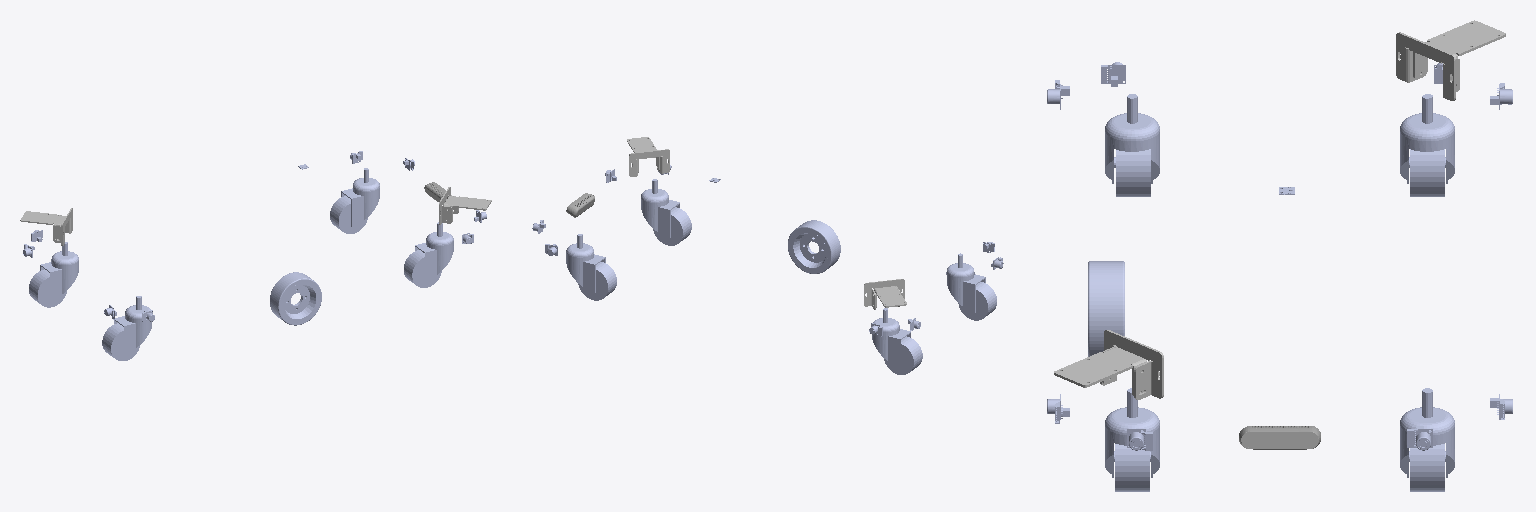
--- Render facts (derived) ---
3 views of the same robot in one strip: view 1: azimuth 30°, elevation 25°; view 2: azimuth 150°, elevation 25°; view 3: azimuth 270°, elevation 25° (orthographic).
Robot: rohm_amr_description — 28 links, 27 joints (10 continuous, 17 fixed); root link base_link; default pose: every joint at zero.
Links seen in each view (by area): view 1: wheel_right_link, caster_arm_front_left_link, caster_arm_rear_left_link, caster_arm_front_right_link, caster_arm_rear_right_link, caster_wheel_rear_right_link, caster_wheel_front_right_link, caster_wheel_rear_left_link, caster_wheel_front_left_link; view 2: wheel_right_link, caster_arm_front_right_link, caster_arm_front_left_link, caster_arm_rear_right_link, caster_arm_rear_left_link, caster_wheel_rear_left_link, caster_wheel_rear_right_link, caster_wheel_front_left_link, caster_wheel_front_right_link, lidar_front_right_roll_link, lidar_rear_left_roll_link; view 3: wheel_right_link, caster_arm_rear_left_link, caster_arm_rear_right_link, caster_arm_front_left_link, caster_arm_front_right_link, lidar_front_right_pitch_link, lidar_rear_left_roll_link, lidar_front_right_roll_link, lidar_rear_left_pitch_link, depth_cam_mount_point_link, caster_wheel_rear_right_link, caster_wheel_rear_left_link (+3 smaller).
Boxes of the visible links, left/top/right/bottom form: wheel_right_link: left=270, top=272, right=321, bottom=325; caster_arm_front_left_link: left=341, top=168, right=379, bottom=226; caster_arm_rear_left_link: left=40, top=242, right=78, bottom=299; caster_arm_front_right_link: left=415, top=222, right=453, bottom=280; caster_arm_rear_right_link: left=114, top=296, right=151, bottom=353; caster_wheel_rear_right_link: left=102, top=323, right=139, bottom=360; caster_wheel_front_right_link: left=404, top=250, right=441, bottom=287; caster_wheel_rear_left_link: left=29, top=269, right=66, bottom=307; caster_wheel_front_left_link: left=330, top=196, right=367, bottom=233; wheel_right_link: left=788, top=220, right=840, bottom=273; caster_arm_front_right_link: left=641, top=179, right=679, bottom=237; caster_arm_front_left_link: left=566, top=234, right=605, bottom=292; caster_arm_rear_right_link: left=946, top=253, right=985, bottom=312; caster_arm_rear_left_link: left=872, top=308, right=910, bottom=367; caster_wheel_rear_left_link: left=884, top=336, right=922, bottom=374; caster_wheel_rear_right_link: left=958, top=282, right=996, bottom=320; caster_wheel_front_left_link: left=578, top=262, right=616, bottom=300; caster_wheel_front_right_link: left=653, top=207, right=691, bottom=245; lidar_front_right_roll_link: left=629, top=149, right=669, bottom=176; lidar_rear_left_roll_link: left=864, top=279, right=904, bottom=309; wheel_right_link: left=1088, top=261, right=1124, bottom=356; caster_arm_rear_left_link: left=1400, top=94, right=1454, bottom=183; caster_arm_rear_right_link: left=1105, top=94, right=1159, bottom=183; caster_arm_front_left_link: left=1400, top=388, right=1454, bottom=477; caster_arm_front_right_link: left=1105, top=388, right=1159, bottom=477; lidar_front_right_pitch_link: left=1054, top=347, right=1146, bottom=395; lidar_rear_left_roll_link: left=1396, top=32, right=1459, bottom=100; lidar_front_right_roll_link: left=1100, top=330, right=1163, bottom=399; lidar_rear_left_pitch_link: left=1413, top=20, right=1505, bottom=78; depth_cam_mount_point_link: left=1239, top=426, right=1320, bottom=449; caster_wheel_rear_right_link: left=1116, top=149, right=1150, bottom=196; caster_wheel_rear_left_link: left=1410, top=149, right=1444, bottom=196.
Size in the robot's own frame: 0.9635 by 0.505 by 0.2632 metres.
Meshes: 28 distinct files referenced, 23 mesh visuals loaded (23 binary STL); not drawn: 4 (reference not matched to a file when rendering), 1 (file found but could not be loaded).

robot.urdf — rohm_amr_description:
<?xml version="1.0" encoding="utf-8"?>
<!-- This URDF was automatically created by SolidWorks to URDF Exporter! Originally created by Stephen Brawner ([email redacted]) 
     Commit Version: 1.6.0-4-g7f85cfe  Build Version: 1.6.7995.38578
     For more information, please see http://wiki.ros.org/sw_urdf_exporter -->
<robot
  name="rohm_amr_description">
  <link
    name="base_link">
    <inertial>
      <origin
        xyz="-0.073483 -0.0043519 0.24859"
        rpy="0 0 0" />
      <mass
        value="28.984" />
      <inertia
        ixx="0.30334"
        ixy="9.1593E-06"
        ixz="0.00086172"
        iyy="0.32997"
        iyz="-6.0857E-05"
        izz="0.404" />
    </inertial>
    <visual>
      <origin
        xyz="0 0 0"
        rpy="0 0 0" />
      <geometry>
        <mesh
          filename="package://rohm_amr_description/meshes/base_link.STL" />
      </geometry>
      <material
        name="">
        <color
          rgba="0.79216 0.81961 0.93333 1" />
      </material>
    </visual>
    <collision>
      <origin
        xyz="0 0 0"
        rpy="0 0 0" />
      <geometry>
        <mesh
          filename="package://rohm_amr_description/meshes/base_link.STL" />
      </geometry>
    </collision>
  </link>
  <link
    name="wheel_right_link">
    <inertial>
      <origin
        xyz="-5.1461E-18 0 -2.7756E-17"
        rpy="0 0 0" />
      <mass
        value="0.23496" />
      <inertia
        ixx="0.00026447"
        ixy="1.9667E-21"
        ixz="-1.0084E-20"
        iyy="0.00026447"
        iyz="-1.1375E-22"
        izz="0.00047658" />
    </inertial>
    <visual>
      <origin
        xyz="0 0 0"
        rpy="0 0 0" />
      <geometry>
        <mesh
          filename="package://rohm_amr_description/meshes/wheel_right_link.STL" />
      </geometry>
      <material
        name="">
        <color
          rgba="0.79216 0.81961 0.93333 1" />
      </material>
    </visual>
    <collision>
      <origin
        xyz="0 0 0"
        rpy="0 0 0" />
      <geometry>
        <mesh
          filename="package://rohm_amr_description/meshes/wheel_right_link.STL" />
      </geometry>
    </collision>
  </link>
  <joint
    name="wheel_right_joint"
    type="continuous">
    <origin
      xyz="0 -0.188 0.055"
      rpy="1.5708 0 0" />
    <parent
      link="base_link" />
    <child
      link="wheel_right_link" />
    <axis
      xyz="0 0 -1" />
    <limit
      effort="20"
      velocity="10.5" />
  </joint>
  <link
    name="wheel_left_link">
    <inertial>
      <origin
        xyz="-4.6862E-18 0 -2.7756E-17"
        rpy="0 0 0" />
      <mass
        value="0.23496" />
      <inertia
        ixx="0.00026447"
        ixy="2.309E-21"
        ixz="-1.0084E-20"
        iyy="0.00026447"
        iyz="-5.7751E-23"
        izz="0.00047658" />
    </inertial>
    <visual>
      <origin
        xyz="0 0 0"
        rpy="0 0 0" />
      <geometry>
        <mesh
          filename="package://rohm_amr_description/meshes/wheel_left_link.STL" />
      </geometry>
      <material
        name="">
        <color
          rgba="0.79216 0.81961 0.93333 1" />
      </material>
    </visual>
    <collision>
      <origin
        xyz="0 0 0"
        rpy="0 0 0" />
      <geometry>
        <mesh
          filename="package://rohm_amr_description/meshes/wheel_left_link.STL" />
      </geometry>
    </collision>
  </link>
  <joint
    name="wheel_left_joint"
    type="continuous">
    <origin
      xyz="0 0.188 0.055"
      rpy="1.5708 0 0" />
    <parent
      link="base_link" />
    <child
      link="wheel_left_link" />
    <axis
      xyz="0 0 -1" />
    <limit
      effort="20"
      velocity="10.5" />
  </joint>
  <link
    name="caster_arm_front_right_link">
    <inertial>
      <origin
        xyz="-0.0067542 2.146E-09 -0.02431"
        rpy="0 0 0" />
      <mass
        value="0.10224" />
      <inertia
        ixx="8.0517E-05"
        ixy="3.1139E-12"
        ixz="-2.0766E-05"
        iyy="8.4409E-05"
        iyz="-3.5715E-12"
        izz="6.6718E-05" />
    </inertial>
    <visual>
      <origin
        xyz="0 0 0"
        rpy="0 0 0" />
      <geometry>
        <mesh
          filename="package://rohm_amr_description/meshes/caster_arm_front_right_link.STL" />
      </geometry>
      <material
        name="">
        <color
          rgba="0.79216 0.81961 0.93333 1" />
      </material>
    </visual>
    <collision>
      <origin
        xyz="0 0 0"
        rpy="0 0 0" />
      <geometry>
        <mesh
          filename="package://rohm_amr_description/meshes/caster_arm_front_right_link.STL" />
      </geometry>
    </collision>
  </link>
  <joint
    name="caster_arm_front_right_joint"
    type="continuous">
    <origin
      xyz="0.3775 -0.16 0.107"
      rpy="0 0 0" />
    <parent
      link="base_link" />
    <child
      link="caster_arm_front_right_link" />
    <axis
      xyz="0 0 1" />
  </joint>
  <link
    name="caster_wheel_front_right_link">
    <inertial>
      <origin
        xyz="-5.55111512312578E-17 1.66533453693773E-16 0"
        rpy="0 0 0" />
      <mass
        value="0.163581158676094" />
      <inertia
        ixx="7.86654976191722E-05"
        ixy="1.62147635876547E-36"
        ixz="-2.92725644003597E-37"
        iyy="7.86654976191722E-05"
        iyz="5.87747175411144E-37"
        izz="0.000117962463050298" />
    </inertial>
    <visual>
      <origin
        xyz="0 0 0"
        rpy="0 0 0" />
      <geometry>
        <mesh
          filename="package://rohm_amr_description/meshes/caster_wheel_front_right_link.STL" />
      </geometry>
      <material
        name="">
        <color
          rgba="0.792156862745098 0.819607843137255 0.933333333333333 1" />
      </material>
    </visual>
    <collision>
      <origin
        xyz="0 0 0"
        rpy="0 0 0" />
      <geometry>
        <mesh
          filename="package://rohm_amr_description/meshes/caster_wheel_front_right_link.STL" />
      </geometry>
    </collision>
  </link>
  <joint
    name="caster_wheel_front_right_joint"
    type="continuous">
    <origin
      xyz="-0.043 0 -0.0695"
      rpy="1.5708 0 0" />
    <parent
      link="caster_arm_front_right_link" />
    <child
      link="caster_wheel_front_right_link" />
    <axis
      xyz="0 0 -1" />
  </joint>
  <link
    name="caster_arm_front_left_link">
    <inertial>
      <origin
        xyz="-0.00675421782324331 2.14599993331177E-09 -0.0243102631444927"
        rpy="0 0 0" />
      <mass
        value="0.102241293550996" />
      <inertia
        ixx="8.05168632706418E-05"
        ixy="3.11393169037364E-12"
        ixz="-2.07659739353893E-05"
        iyy="8.44086372703286E-05"
        iyz="-3.5715355661517E-12"
        izz="6.67184713176472E-05" />
    </inertial>
    <visual>
      <origin
        xyz="0 0 0"
        rpy="0 0 0" />
      <geometry>
        <mesh
          filename="package://rohm_amr_description/meshes/caster_arm_front_left_link.STL" />
      </geometry>
      <material
        name="">
        <color
          rgba="0.792156862745098 0.819607843137255 0.933333333333333 1" />
      </material>
    </visual>
    <collision>
      <origin
        xyz="0 0 0"
        rpy="0 0 0" />
      <geometry>
        <mesh
          filename="package://rohm_amr_description/meshes/caster_arm_front_left_link.STL" />
      </geometry>
    </collision>
  </link>
  <joint
    name="caster_arm_front_left_joint"
    type="continuous">
    <origin
      xyz="0.3775 0.16 0.107"
      rpy="0 0 0" />
    <parent
      link="base_link" />
    <child
      link="caster_arm_front_left_link" />
    <axis
      xyz="0 0 1" />
  </joint>
  <link
    name="caster_wheel_front_left_link">
    <inertial>
      <origin
        xyz="1.77635683940025E-15 1.73472347597681E-16 0"
        rpy="0 0 0" />
      <mass
        value="0.163581158676094" />
      <inertia
        ixx="7.86654976191722E-05"
        ixy="5.90881358212249E-40"
        ixz="-2.92725644003597E-37"
        iyy="7.86654976191722E-05"
        iyz="2.3706706348981E-37"
        izz="0.000117962463050298" />
    </inertial>
    <visual>
      <origin
        xyz="0 0 0"
        rpy="0 0 0" />
      <geometry>
        <mesh
          filename="package://rohm_amr_description/meshes/caster_wheel_front_left_link.STL" />
      </geometry>
      <material
        name="">
        <color
          rgba="0.792156862745098 0.819607843137255 0.933333333333333 1" />
      </material>
    </visual>
    <collision>
      <origin
        xyz="0 0 0"
        rpy="0 0 0" />
      <geometry>
        <mesh
          filename="package://rohm_amr_description/meshes/caster_wheel_front_left_link.STL" />
      </geometry>
    </collision>
  </link>
  <joint
    name="caster_wheel_front_left_joint"
    type="continuous">
    <origin
      xyz="-0.043 0 -0.0695"
      rpy="1.5708 0 0" />
    <parent
      link="caster_arm_front_left_link" />
    <child
      link="caster_wheel_front_left_link" />
    <axis
      xyz="0 0 -1" />
  </joint>
  <link
    name="caster_arm_rear_right_link">
    <inertial>
      <origin
        xyz="-0.00675421782323943 2.1460000165785E-09 -0.0243102631444928"
        rpy="0 0 0" />
      <mass
        value="0.102241293550996" />
      <inertia
        ixx="8.0516863270642E-05"
        ixy="3.11393170052989E-12"
        ixz="-2.07659739353893E-05"
        iyy="8.44086372703287E-05"
        iyz="-3.57153563380424E-12"
        izz="6.67184713176472E-05" />
    </inertial>
    <visual>
      <origin
        xyz="0 0 0"
        rpy="0 0 0" />
      <geometry>
        <mesh
          filename="package://rohm_amr_description/meshes/caster_arm_rear_right_link.STL" />
      </geometry>
      <material
        name="">
        <color
          rgba="0.792156862745098 0.819607843137255 0.933333333333333 1" />
      </material>
    </visual>
    <collision>
      <origin
        xyz="0 0 0"
        rpy="0 0 0" />
      <geometry>
        <mesh
          filename="package://rohm_amr_description/meshes/caster_arm_rear_right_link.STL" />
      </geometry>
    </collision>
  </link>
  <joint
    name="caster_arm_rear_right_joint"
    type="continuous">
    <origin
      xyz="-0.3775 -0.16 0.107"
      rpy="0 0 0" />
    <parent
      link="base_link" />
    <child
      link="caster_arm_rear_right_link" />
    <axis
      xyz="0 0 1" />
  </joint>
  <link
    name="caster_wheel_rear_right_link">
    <inertial>
      <origin
        xyz="-5.55111512312578E-17 -6.93889390390723E-18 0"
        rpy="0 0 0" />
      <mass
        value="0.163581158676094" />
      <inertia
        ixx="7.86654976191722E-05"
        ixy="-1.62029459604904E-36"
        ixz="-2.92725644003597E-37"
        iyy="7.86654976191722E-05"
        iyz="-5.87747175411144E-37"
        izz="0.000117962463050298" />
    </inertial>
    <visual>
      <origin
        xyz="0 0 0"
        rpy="0 0 0" />
      <geometry>
        <mesh
          filename="package://rohm_amr_description/meshes/caster_wheel_rear_right_link.STL" />
      </geometry>
      <material
        name="">
        <color
          rgba="0.792156862745098 0.819607843137255 0.933333333333333 1" />
      </material>
    </visual>
    <collision>
      <origin
        xyz="0 0 0"
        rpy="0 0 0" />
      <geometry>
        <mesh
          filename="package://rohm_amr_description/meshes/caster_wheel_rear_right_link.STL" />
      </geometry>
    </collision>
  </link>
  <joint
    name="caster_wheel_rear_right_joint"
    type="continuous">
    <origin
      xyz="-0.043 0.001 -0.0695"
      rpy="1.5708 0 0" />
    <parent
      link="caster_arm_rear_right_link" />
    <child
      link="caster_wheel_rear_right_link" />
    <axis
      xyz="0 0 -1" />
  </joint>
  <link
    name="caster_arm_rear_left_link">
    <inertial>
      <origin
        xyz="-0.00675421782325275 2.14600004433407E-09 -0.0243102631444927"
        rpy="0 0 0" />
      <mass
        value="0.102241293550996" />
      <inertia
        ixx="8.05168632706417E-05"
        ixy="3.11393167007536E-12"
        ixz="-2.07659739353893E-05"
        iyy="8.44086372703285E-05"
        iyz="-3.57153547612517E-12"
        izz="6.67184713176471E-05" />
    </inertial>
    <visual>
      <origin
        xyz="0 0 0"
        rpy="0 0 0" />
      <geometry>
        <mesh
          filename="package://rohm_amr_description/meshes/caster_arm_rear_left_link.STL" />
      </geometry>
      <material
        name="">
        <color
          rgba="0.792156862745098 0.819607843137255 0.933333333333333 1" />
      </material>
    </visual>
    <collision>
      <origin
        xyz="0 0 0"
        rpy="0 0 0" />
      <geometry>
        <mesh
          filename="package://rohm_amr_description/meshes/caster_arm_rear_left_link.STL" />
      </geometry>
    </collision>
  </link>
  <joint
    name="caster_arm_rear_left_joint"
    type="continuous">
    <origin
      xyz="-0.3775 0.16 0.107"
      rpy="0 0 0" />
    <parent
      link="base_link" />
    <child
      link="caster_arm_rear_left_link" />
    <axis
      xyz="0 0 1" />
  </joint>
  <link
    name="caster_wheel_rear_left_link">
    <inertial>
      <origin
        xyz="-3.44169137633799E-15 1.16989751219876E-14 0"
        rpy="0 0 0" />
      <mass
        value="0.163581158676094" />
      <inertia
        ixx="7.86654976191722E-05"
        ixy="5.90881358212249E-40"
        ixz="-2.92725644003597E-37"
        iyy="7.86654976191722E-05"
        iyz="2.3706706348981E-37"
        izz="0.000117962463050298" />
    </inertial>
    <visual>
      <origin
        xyz="0 0 0"
        rpy="0 0 0" />
      <geometry>
        <mesh
          filename="package://rohm_amr_description/meshes/caster_wheel_rear_left_link.STL" />
      </geometry>
      <material
        name="">
        <color
          rgba="0.792156862745098 0.819607843137255 0.933333333333333 1" />
      </material>
    </visual>
    <collision>
      <origin
        xyz="0 0 0"
        rpy="0 0 0" />
      <geometry>
        <mesh
          filename="package://rohm_amr_description/meshes/caster_wheel_rear_left_link.STL" />
      </geometry>
    </collision>
  </link>
  <joint
    name="caster_wheel_rear_left_joint"
    type="continuous">
    <origin
      xyz="-0.043 0 -0.0695"
      rpy="1.5708 0 0" />
    <parent
      link="caster_arm_rear_left_link" />
    <child
      link="caster_wheel_rear_left_link" />
    <axis
      xyz="0 0 -1" />
  </joint>
  <link
    name="imu_link">
    <inertial>
      <origin
        xyz="0.00372314733869097 -2.49899340665216E-08 0.000837508635019801"
        rpy="0 0 0" />
      <mass
        value="0.000502288061214731" />
      <inertia
        ixx="1.37978316417245E-08"
        ixy="1.26534574459438E-13"
        ixz="5.16668935382629E-11"
        iyy="1.30397927506381E-08"
        iyz="9.96944209839807E-15"
        izz="2.65859794426441E-08" />
    </inertial>
    <visual>
      <origin
        xyz="0 0 0"
        rpy="0 0 0" />
      <geometry>
        <mesh
          filename="package://rohm_amr_description/meshes/imu_link.STL" />
      </geometry>
      <material
        name="">
        <color
          rgba="0.792156862745098 0.819607843137255 0.933333333333333 1" />
      </material>
    </visual>
    <collision>
      <origin
        xyz="0 0 0"
        rpy="0 0 0" />
      <geometry>
        <mesh
          filename="package://rohm_amr_description/meshes/imu_link.STL" />
      </geometry>
    </collision>
  </link>
  <joint
    name="imu_joint"
    type="fixed">
    <origin
      xyz="0.13248 0.011901 0.26051"
      rpy="0 0 -1.5708" />
    <parent
      link="base_link" />
    <child
      link="imu_link" />
    <axis
      xyz="0 0 0" />
  </joint>
  <link
    name="lidar_front_right_roll_link">
    <inertial>
      <origin
        xyz="0.00341569824852672 -3.60822483003176E-16 0.000714686858124397"
        rpy="0 0 0" />
      <mass
        value="0.105074031653967" />
      <inertia
        ixx="0.000118386129259021"
        ixy="-3.59141969635823E-19"
        ixz="4.01713979224373E-06"
        iyy="3.27891394505926E-05"
        iyz="1.55848379328042E-20"
        izz="9.74424463210962E-05" />
    </inertial>
    <visual>
      <origin
        xyz="0 0 0"
        rpy="0 0 0" />
      <geometry>
        <mesh
          filename="package://rohm_amr_description/meshes/lidar_front_right_roll_link.STL" />
      </geometry>
      <material
        name="">
        <color
          rgba="0.792156862745098 0.792156862745098 0.792156862745098 1" />
      </material>
    </visual>
    <collision>
      <origin
        xyz="0 0 0"
        rpy="0 0 0" />
      <geometry>
        <mesh
          filename="package://rohm_amr_description/meshes/lidar_front_right_roll_link.STL" />
      </geometry>
    </collision>
  </link>
  <joint
    name="lidar_front_right_roll_joint"
    type="fixed">
    <origin
      xyz="0.39109 -0.15955 0.1745"
      rpy="0 0 -0.7854" />
    <parent
      link="base_link" />
    <child
      link="lidar_front_right_roll_link" />
    <axis
      xyz="0 0 0" />
  </joint>
  <link
    name="lidar_front_right_pitch_link">
    <inertial>
      <origin
        xyz="0.0289046048095006 1.11022302462516E-16 0.00388007864506032"
        rpy="0 0 0" />
      <mass
        value="0.143282605100291" />
      <inertia
        ixx="5.45047049148797E-05"
        ixy="-3.13402190484091E-19"
        ixz="-1.91335293827813E-05"
        iyy="0.000133259895991102"
        iyz="9.73323291802234E-20"
        izz="0.000160257762612893" />
    </inertial>
    <visual>
      <origin
        xyz="0 0 0"
        rpy="0 0 0" />
      <geometry>
        <mesh
          filename="package://rohm_amr_description/meshes/lidar_front_right_pitch_link.STL" />
      </geometry>
      <material
        name="">
        <color
          rgba="0.792156862745098 0.792156862745098 0.792156862745098 1" />
      </material>
    </visual>
    <collision>
      <origin
        xyz="0 0 0"
        rpy="0 0 0" />
      <geometry>
        <mesh
          filename="package://rohm_amr_description/meshes/lidar_front_right_pitch_link.STL" />
      </geometry>
    </collision>
  </link>
  <joint
    name="lidar_front_right_pitch_joint"
    type="fixed">
    <origin
      xyz="0.013 0 0.005"
      rpy="0 0 0" />
    <parent
      link="lidar_front_right_roll_link" />
    <child
      link="lidar_front_right_pitch_link" />
    <axis
      xyz="0 0 0" />
  </joint>
  <link
    name="lidar_front_right_link">
    <inertial>
      <origin
        xyz="0.240092407845002 2.40047584587622E-09 -8.52892701927455E-06"
        rpy="0 0 0" />
      <mass
        value="399.487966204344" />
      <inertia
        ixx="174.35420763036"
        ixy="-1.85064052971029E-09"
        ixz="3.22011540266463E-06"
        iyy="90.2687564368381"
        iyz="-8.07688384801051E-09"
        izz="264.607976285177" />
    </inertial>
    <visual>
      <origin
        xyz="0 0 0"
        rpy="0 0 0" />
      <geometry>
        <mesh
          filename="package://rohm_amr_description/meshes/lidar_front_right_link.STL" />
      </geometry>
      <material
        name="">
        <color
          rgba="1 0.501960784313725 0.501960784313725 1" />
      </material>
    </visual>
    <collision>
      <origin
        xyz="0 0 0"
        rpy="0 0 0" />
      <geometry>
        <mesh
          filename="package://rohm_amr_description/meshes/lidar_front_right_link.STL" />
      </geometry>
    </collision>
  </link>
  <joint
    name="lidar_front_right_joint"
    type="fixed">
    <origin
      xyz="0.055 0 -0.02135"
      rpy="3.1416 0 0" />
    <parent
      link="lidar_front_right_pitch_link" />
    <child
      link="lidar_front_right_link" />
    <axis
      xyz="0 0 0" />
  </joint>
  <link
    name="lidar_rear_left_roll_link">
    <inertial>
      <origin
        xyz="0.00341569824853388 -1.11022302462516E-16 0.000714686858121899"
        rpy="0 0 0" />
      <mass
        value="0.105074031653967" />
      <inertia
        ixx="0.000118386129259021"
        ixy="-1.84653182501437E-19"
        ixz="4.01713979224373E-06"
        iyy="3.27891394505925E-05"
        iyz="2.00196805380229E-19"
        izz="9.74424463210963E-05" />
    </inertial>
    <visual>
      <origin
        xyz="0 0 0"
        rpy="0 0 0" />
      <geometry>
        <mesh
          filename="package://rohm_amr_description/meshes/lidar_rear_left_roll_link.STL" />
      </geometry>
      <material
        name="">
        <color
          rgba="0.792156862745098 0.792156862745098 0.792156862745098 1" />
      </material>
    </visual>
    <collision>
      <origin
        xyz="0 0 0"
        rpy="0 0 0" />
      <geometry>
        <mesh
          filename="package://rohm_amr_description/meshes/lidar_rear_left_roll_link.STL" />
      </geometry>
    </collision>
  </link>
  <joint
    name="lidar_rear_left_roll_joint"
    type="fixed">
    <origin
      xyz="-0.37409 0.15955 0.1745"
      rpy="0 0 2.3562" />
    <parent
      link="base_link" />
    <child
      link="lidar_rear_left_roll_link" />
    <axis
      xyz="0 0 0" />
  </joint>
  <link
    name="lidar_rear_left_pitch_link">
    <inertial>
      <origin
        xyz="0.0289046048095066 1.38777878078145E-16 0.00388007864505172"
        rpy="0 0 0" />
      <mass
        value="0.143282605100291" />
      <inertia
        ixx="5.45047049148801E-05"
        ixy="-4.16740210049116E-19"
        ixz="-1.91335293827814E-05"
        iyy="0.000133259895991102"
        iyz="1.56465740326953E-20"
        izz="0.000160257762612894" />
    </inertial>
    <visual>
      <origin
        xyz="0 0 0"
        rpy="0 0 0" />
      <geometry>
        <mesh
          filename="package://rohm_amr_description/meshes/lidar_rear_left_pitch_link.STL" />
      </geometry>
      <material
        name="">
        <color
          rgba="0.792156862745098 0.792156862745098 0.792156862745098 1" />
      </material>
    </visual>
    <collision>
      <origin
        xyz="0 0 0"
        rpy="0 0 0" />
      <geometry>
        <mesh
          filename="package://rohm_amr_description/meshes/lidar_rear_left_pitch_link.STL" />
      </geometry>
    </collision>
  </link>
  <joint
    name="lidar_rear_left_pitch_joint"
    type="fixed">
    <origin
      xyz="0.013 0 0.005"
      rpy="0 0 0" />
    <parent
      link="lidar_rear_left_roll_link" />
    <child
      link="lidar_rear_left_pitch_link" />
    <axis
      xyz="0 0 0" />
  </joint>
  <link
    name="lidar_rear_left_link">
    <inertial>
      <origin
        xyz="0.240092407844441 2.40045899824182E-09 -8.52892705119346E-06"
        rpy="0 0 0" />
      <mass
        value="399.487966205156" />
      <inertia
        ixx="174.35420763036"
        ixy="-1.85067605684708E-09"
        ixz="3.22011540523997E-06"
        iyy="90.2687564368381"
        iyz="-8.07682181755778E-09"
        izz="264.607976285178" />
    </inertial>
    <visual>
      <origin
        xyz="0 0 0"
        rpy="0 0 0" />
      <geometry>
        <mesh
          filename="package://rohm_amr_description/meshes/lidar_rear_left_link.STL" />
      </geometry>
      <material
        name="">
        <color
          rgba="1 0.501960784313725 0.501960784313725 1" />
      </material>
    </visual>
    <collision>
      <origin
        xyz="0 0 0"
        rpy="0 0 0" />
      <geometry>
        <mesh
          filename="package://rohm_amr_description/meshes/lidar_rear_left_link.STL" />
      </geometry>
    </collision>
  </link>
  <joint
    name="lidar_rear_left_joint"
    type="fixed">
    <origin
      xyz="0.055 0 -0.02135"
      rpy="3.1416 0 0" />
    <parent
      link="lidar_rear_left_pitch_link" />
    <child
      link="lidar_rear_left_link" />
    <axis
      xyz="0 0 0" />
  </joint>
  <link
    name="lidar_merged_link">
    <inertial>
      <origin
        xyz="0.00324062163584135 -0.000226459164535731 0.00887925143437091"
        rpy="0 0 0" />
      <mass
        value="923.219933749901" />
      <inertia
        ixx="384.015226592815"
        ixy="96.9074498454372"
        ixz="-1.43120298898605"
        iyy="565.041215401844"
        iyz="-0.0259486902638359"
        izz="942.342649416445" />
    </inertial>
    <visual>
      <origin
        xyz="0 0 0"
        rpy="0 0 0" />
      <geometry>
        <mesh
          filename="package://rohm_amr_description/meshes/lidar_merged_link.STL" />
      </geometry>
      <material
        name="">
        <color
          rgba="1 1 1 1" />
      </material>
    </visual>
    <collision>
      <origin
        xyz="0 0 0"
        rpy="0 0 0" />
      <geometry>
        <mesh
          filename="package://rohm_amr_description/meshes/lidar_merged_link.STL" />
      </geometry>
    </collision>
  </link>
  <joint
    name="lidar_merge_joint"
    type="fixed">
    <origin
      xyz="0 0 0.15815"
      rpy="0 0 0" />
    <parent
      link="base_link" />
    <child
      link="lidar_merged_link" />
    <axis
      xyz="0 0 0" />
  </joint>
  <link
    name="depth_cam_mount_point_link">
    <inertial>
      <origin
        xyz="0.00153205265950423 0.00137950775247242 0.0124766239393624"
        rpy="0 0 0" />
      <mass
        value="0.286307538979572" />
      <inertia
        ixx="0.000183723814872738"
        ixy="-1.07569994202486E-06"
        ixz="7.99476012688966E-08"
        iyy="2.75127610571264E-05"
        iyz="1.19800096606718E-08"
        izz="0.00018535136318658" />
    </inertial>
    <visual>
      <origin
        xyz="0 0 0"
        rpy="0 0 0" />
      <geometry>
        <mesh
          filename="package://rohm_amr_description/meshes/depth_cam_mount_point_link.STL" />
      </geometry>
      <material
        name="">
        <color
          rgba="0.701960784313725 0.701960784313725 0.701960784313725 1" />
      </material>
    </visual>
    <collision>
      <origin
        xyz="0 0 0"
        rpy="0 0 0" />
      <geometry>
        <mesh
          filename="package://rohm_amr_description/meshes/depth_cam_mount_point_link.STL" />
      </geometry>
    </collision>
  </link>
  <joint
    name="depth_cam_mount_point_joint"
    type="fixed">
    <origin
      xyz="0.46771 0 0.10897"
      rpy="-0.0043513 -0.24431 0.017987" />
    <parent
      link="base_link" />
    <child
      link="depth_cam_mount_point_link" />
    <axis
      xyz="0 0 0" />
  </joint>
  <link
    name="ultrasonic_front_right_link">
    <inertial>
      <origin
        xyz="-0.0101951890574369 0.00176519904874645 -0.00093909748619353"
        rpy="0 0 0" />
      <mass
        value="0.00561297834512605" />
      <inertia
        ixx="2.110210056278E-07"
        ixy="-7.93292062270086E-10"
        ixz="2.66386687973336E-23"
        iyy="1.81264873897895E-07"
        iyz="1.57650879589313E-09"
        izz="1.53595696502951E-07" />
    </inertial>
    <visual>
      <origin
        xyz="0 0 0"
        rpy="0 0 0" />
      <geometry>
        <mesh
          filename="package://rohm_amr_description/meshes/ultrasonic_front_right_link.STL" />
      </geometry>
      <material
        name="">
        <color
          rgba="0.792156862745098 0.819607843137255 0.933333333333333 1" />
      </material>
    </visual>
    <collision>
      <origin
        xyz="0 0 0"
        rpy="0 0 0" />
      <geometry>
        <mesh
          filename="package://rohm_amr_description/meshes/ultrasonic_front_right_link.STL" />
      </geometry>
    </collision>
  </link>
  <joint
    name="ultrasonic_front_right_joint"
    type="fixed">
    <origin
      xyz="0.4935 -0.15575 0.127"
      rpy="0 0 0" />
    <parent
      link="base_link" />
    <child
      link="ultrasonic_front_right_link" />
    <axis
      xyz="0 0 0" />
  </joint>
  <link
    name="ultrasonic_front_right_side_link">
    <inertial>
      <origin
        xyz="-0.0101951890574369 0.00176519904874645 -0.000939097486193474"
        rpy="0 0 0" />
      <mass
        value="0.00561297834512607" />
      <inertia
        ixx="2.110210056278E-07"
        ixy="-7.93292062270125E-10"
        ixz="2.96117471129401E-24"
        iyy="1.81264873897896E-07"
        iyz="1.57650879589317E-09"
        izz="1.53595696502952E-07" />
    </inertial>
    <visual>
      <origin
        xyz="0 0 0"
        rpy="0 0 0" />
      <geometry>
        <mesh
          filename="package://rohm_amr_description/meshes/ultrasonic_front_right_side_link.STL" />
      </geometry>
      <material
        name="">
        <color
          rgba="0.792156862745098 0.819607843137255 0.933333333333333 1" />
      </material>
    </visual>
    <collision>
      <origin
        xyz="0 0 0"
        rpy="0 0 0" />
      <geometry>
        <mesh
          filename="package://rohm_amr_description/meshes/ultrasonic_front_right_side_link.STL" />
      </geometry>
    </collision>
  </link>
  <joint
    name="ultrasonic_front_right_side_link"
    type="fixed">
    <origin
      xyz="0.3975 -0.2525 0.127"
      rpy="0 0 -1.5708" />
    <parent
      link="base_link" />
    <child
      link="ultrasonic_front_right_side_link" />
    <axis
      xyz="0 0 0" />
  </joint>
  <link
    name="ultrasonic_front_left_link">
    <inertial>
      <origin
        xyz="-0.0101951890574369 -0.00176519904874642 0.000939097486193557"
        rpy="0 0 0" />
      <mass
        value="0.00561297834512606" />
      <inertia
        ixx="2.110210056278E-07"
        ixy="7.93292062270107E-10"
        ixz="1.7991825184055E-23"
        iyy="1.81264873897895E-07"
        iyz="1.57650879589309E-09"
        izz="1.53595696502952E-07" />
    </inertial>
    <visual>
      <origin
        xyz="0 0 0"
        rpy="0 0 0" />
      <geometry>
        <mesh
          filename="package://rohm_amr_description/meshes/ultrasonic_front_left_link.STL" />
      </geometry>
      <material
        name="">
        <color
          rgba="0.792156862745098 0.819607843137255 0.933333333333333 1" />
      </material>
    </visual>
    <collision>
      <origin
        xyz="0 0 0"
        rpy="0 0 0" />
      <geometry>
        <mesh
          filename="package://rohm_amr_description/meshes/ultrasonic_front_left_link.STL" />
      </geometry>
    </collision>
  </link>
  <joint
    name="ultrasonic_front_left_joint"
    type="fixed">
    <origin
      xyz="0.4935 0.15575 0.127"
      rpy="0 0 0" />
    <parent
      link="base_link" />
    <child
      link="ultrasonic_front_left_link" />
    <axis
      xyz="0 0 0" />
  </joint>
  <link
    name="ultrasonic_front_left_side_link">
    <inertial>
      <origin
        xyz="-0.0101951890574369 -0.0017651990487465 0.000939097486193557"
        rpy="0 0 0" />
      <mass
        value="0.00561297834512606" />
      <inertia
        ixx="2.110210056278E-07"
        ixy="7.93292062270289E-10"
        ixz="-1.19645295731153E-23"
        iyy="1.81264873897895E-07"
        iyz="1.57650879589315E-09"
        izz="1.53595696502952E-07" />
    </inertial>
    <visual>
      <origin
        xyz="0 0 0"
        rpy="0 0 0" />
      <geometry>
        <mesh
          filename="package://rohm_amr_description/meshes/ultrasonic_front_left_side_link.STL" />
      </geometry>
      <material
        name="">
        <color
          rgba="0.792156862745098 0.819607843137255 0.933333333333333 1" />
      </material>
    </visual>
    <collision>
      <origin
        xyz="0 0 0"
        rpy="0 0 0" />
      <geometry>
        <mesh
          filename="package://rohm_amr_description/meshes/ultrasonic_front_left_side_link.STL" />
      </geometry>
    </collision>
  </link>
  <joint
    name="ultrasonic_front_left_side_joint"
    type="fixed">
    <origin
      xyz="0.3975 0.2525 0.127"
      rpy="0 0 1.5708" />
    <parent
      link="base_link" />
    <child
      link="ultrasonic_front_left_side_link" />
    <axis
      xyz="0 0 0" />
  </joint>
  <link
    name="ultrasonic_rear_right_link">
    <inertial>
      <origin
        xyz="-0.0101951890574369 0.00176519904874642 -0.00093909748619353"
        rpy="0 0 0" />
      <mass
        value="0.00561297834512606" />
      <inertia
        ixx="2.110210056278E-07"
        ixy="-7.93292062270071E-10"
        ixz="3.6042828572772E-23"
        iyy="1.81264873897895E-07"
        iyz="1.5765087958931E-09"
        izz="1.53595696502951E-07" />
    </inertial>
    <visual>
      <origin
        xyz="0 0 0"
        rpy="0 0 0" />
      <geometry>
        <mesh
          filename="package://rohm_amr_description/meshes/ultrasonic_rear_right_link.STL" />
      </geometry>
      <material
        name="">
        <color
          rgba="0.792156862745098 0.819607843137255 0.933333333333333 1" />
      </material>
    </visual>
    <collision>
      <origin
        xyz="0 0 0"
        rpy="0 0 0" />
      <geometry>
        <mesh
          filename="package://rohm_amr_description/meshes/ultrasonic_rear_right_link.STL" />
      </geometry>
    </collision>
  </link>
  <joint
    name="ultrasonic_rear_right_joint"
    type="fixed">
    <origin
      xyz="-0.47 -0.1765 0.127"
      rpy="0 0 3.1416" />
    <parent
      link="base_link" />
    <child
      link="ultrasonic_rear_right_link" />
    <axis
      xyz="0 0 0" />
  </joint>
  <link
    name="ultrasonic_rear_right_side_link">
    <inertial>
      <origin
        xyz="-0.010195189057437 -0.00176519904874645 0.00093909748619353"
        rpy="0 0 0" />
      <mass
        value="0.00561297834512607" />
      <inertia
        ixx="2.110210056278E-07"
        ixy="7.93292062270207E-10"
        ixz="-1.23989478642897E-23"
        iyy="1.81264873897895E-07"
        iyz="1.57650879589313E-09"
        izz="1.53595696502952E-07" />
    </inertial>
    <visual>
      <origin
        xyz="0 0 0"
        rpy="0 0 0" />
      <geometry>
        <mesh
          filename="package://rohm_amr_description/meshes/ultrasonic_rear_right_side_link.STL" />
      </geometry>
      <material
        name="">
        <color
          rgba="0.792156862745098 0.819607843137255 0.933333333333333 1" />
      </material>
    </visual>
    <collision>
      <origin
        xyz="0 0 0"
        rpy="0 0 0" />
      <geometry>
        <mesh
          filename="package://rohm_amr_description/meshes/ultrasonic_rear_right_side_link.STL" />
      </geometry>
    </collision>
  </link>
  <joint
    name="ultrasonic_rear_right_side_joint"
    type="fixed">
    <origin
      xyz="-0.3975 -0.2525 0.127"
      rpy="0 0 -1.5708" />
    <parent
      link="base_link" />
    <child
      link="ultrasonic_rear_right_side_link" />
    <axis
      xyz="0 0 0" />
  </joint>
  <link
    name="ultrasonic_rear_left_link">
    <inertial>
      <origin
        xyz="-0.0101951890574368 -0.00176519904874645 0.00093909748619353"
        rpy="0 0 0" />
      <mass
        value="0.00561297834512605" />
      <inertia
        ixx="2.110210056278E-07"
        ixy="7.93292062270103E-10"
        ixz="7.20951036793589E-23"
        iyy="1.81264873897895E-07"
        iyz="1.57650879589312E-09"
        izz="1.53595696502951E-07" />
    </inertial>
    <visual>
      <origin
        xyz="0 0 0"
        rpy="0 0 0" />
      <geometry>
        <mesh
          filename="package://rohm_amr_description/meshes/ultrasonic_rear_left_link.STL" />
      </geometry>
      <material
        name="">
        <color
          rgba="0.792156862745098 0.819607843137255 0.933333333333333 1" />
      </material>
    </visual>
    <collision>
      <origin
        xyz="0 0 0"
        rpy="0 0 0" />
      <geometry>
        <mesh
          filename="package://rohm_amr_description/meshes/ultrasonic_rear_left_link.STL" />
      </geometry>
    </collision>
  </link>
  <joint
    name="ultrasonic_rear_left_joint"
    type="fixed">
    <origin
      xyz="-0.47 0.1765 0.127"
      rpy="0 0 3.1416" />
    <parent
      link="base_link" />
    <child
      link="ultrasonic_rear_left_link" />
    <axis
      xyz="0 0 0" />
  </joint>
  <link
    name="ultrasonic_rear_left_side_link">
    <inertial>
      <origin
        xyz="-0.0101951890574369 0.00176519904874639 -0.000939097486193502"
        rpy="0 0 0" />
      <mass
        value="0.00561297834512606" />
      <inertia
        ixx="2.110210056278E-07"
        ixy="-7.93292062270107E-10"
        ixz="-4.45319506719329E-23"
        iyy="1.81264873897895E-07"
        iyz="1.57650879589314E-09"
        izz="1.53595696502952E-07" />
    </inertial>
    <visual>
      <origin
        xyz="0 0 0"
        rpy="0 0 0" />
      <geometry>
        <mesh
          filename="package://rohm_amr_description/meshes/ultrasonic_rear_left_side_link.STL" />
      </geometry>
      <material
        name="">
        <color
          rgba="0.792156862745098 0.819607843137255 0.933333333333333 1" />
      </material>
    </visual>
    <collision>
      <origin
        xyz="0 0 0"
        rpy="0 0 0" />
      <geometry>
        <mesh
          filename="package://rohm_amr_description/meshes/ultrasonic_rear_left_side_link.STL" />
      </geometry>
    </collision>
  </link>
  <joint
    name="ultrasonic_rear_left_side_right"
    type="fixed">
    <origin
      xyz="-0.3975 0.2525 0.127"
      rpy="0 0 1.5708" />
    <parent
      link="base_link" />
    <child
      link="ultrasonic_rear_left_side_link" />
    <axis
      xyz="0 0 0" />
  </joint>
</robot>
